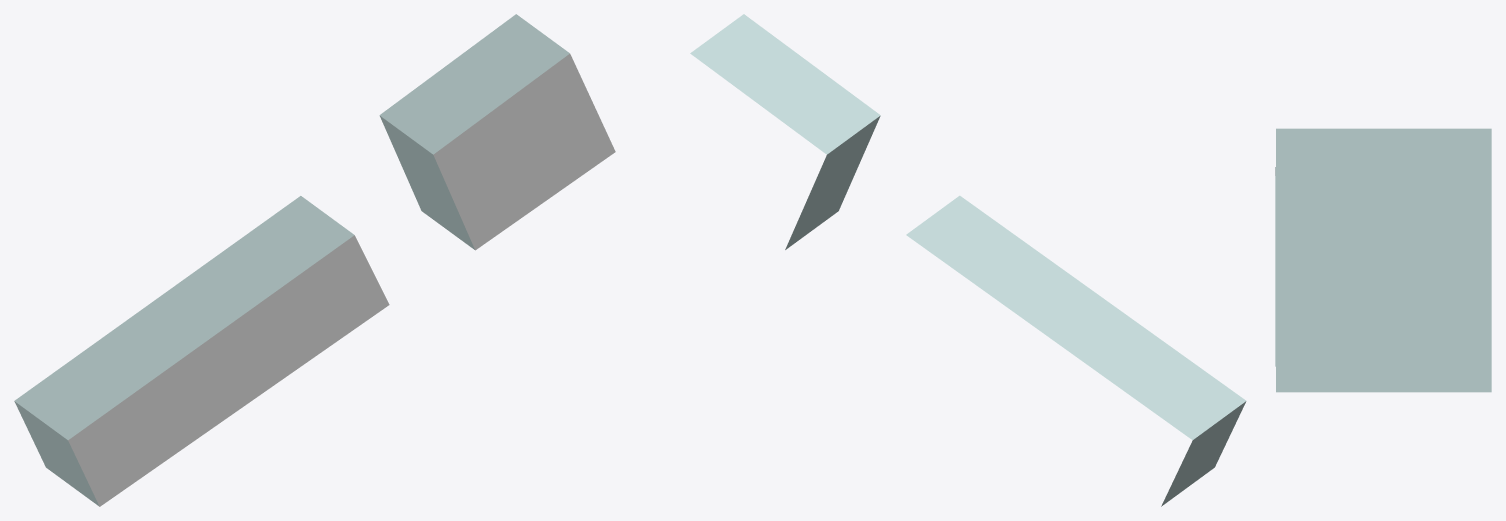
The picture shows the model from 3 angles, left to right: view 1: azimuth 30°, elevation 25°; view 2: azimuth 150°, elevation 25°; view 3: azimuth 270°, elevation 25°; orthographic projection. The views are drawn at different scales.
Visible parts, largest first — view 1: 0_1_1_2_3_1_2_3_3; view 2: 0_1_1_2_3_1_2_3_3; view 3: 0_1_1_2_3_1_2_3_3.
Boxes of the visible parts, box(x1,y1,x2,y2) form: 0_1_1_2_3_1_2_3_3: box(14, 14, 615, 506); 0_1_1_2_3_1_2_3_3: box(690, 14, 1246, 506); 0_1_1_2_3_1_2_3_3: box(1275, 128, 1491, 392).
Bounding box in the file's own units: 17.61 × 10.4 × 3.01.
